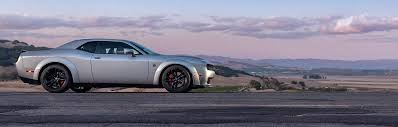car: (15, 36, 216, 94)
